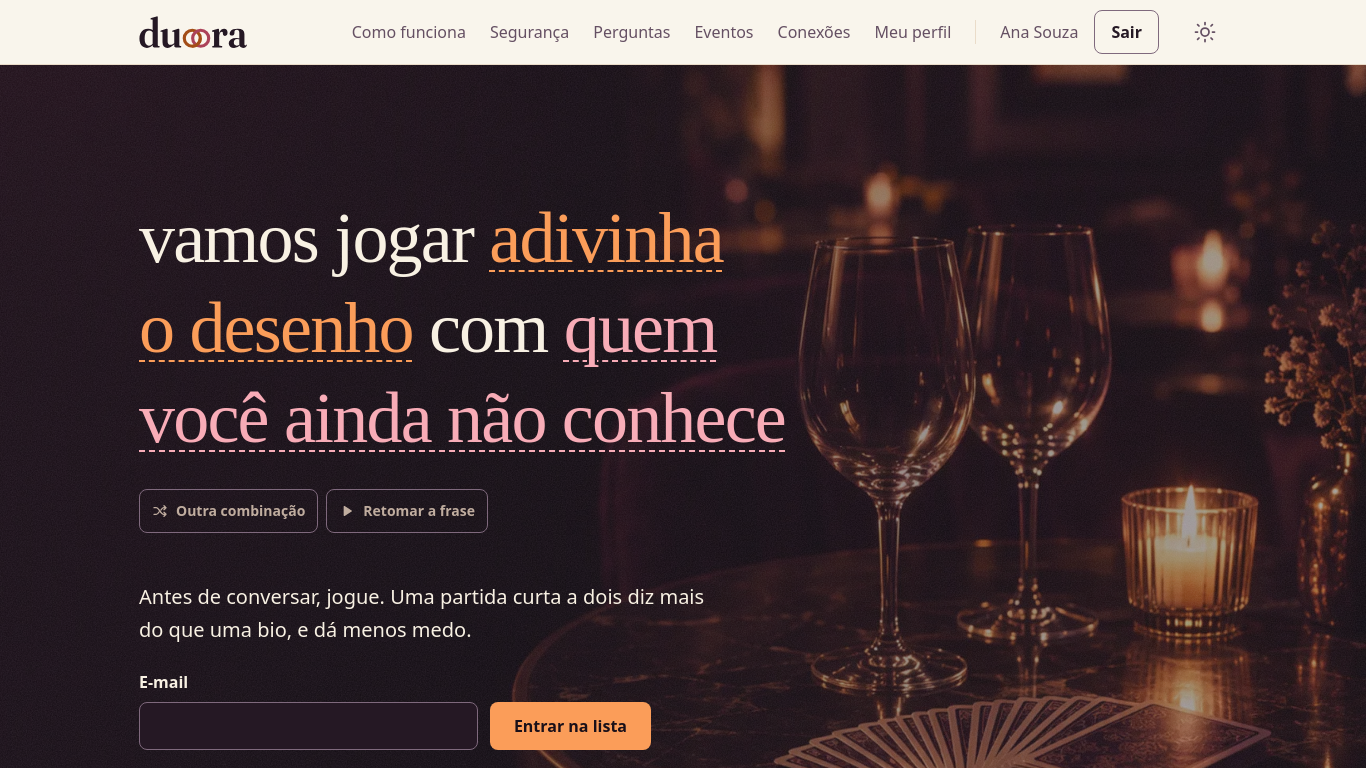
Test case: navigation (desktop) › takes a logged in user to the profile without reloading the page
Click the link "Meu perfil": (913, 32) [874,21,951,43]
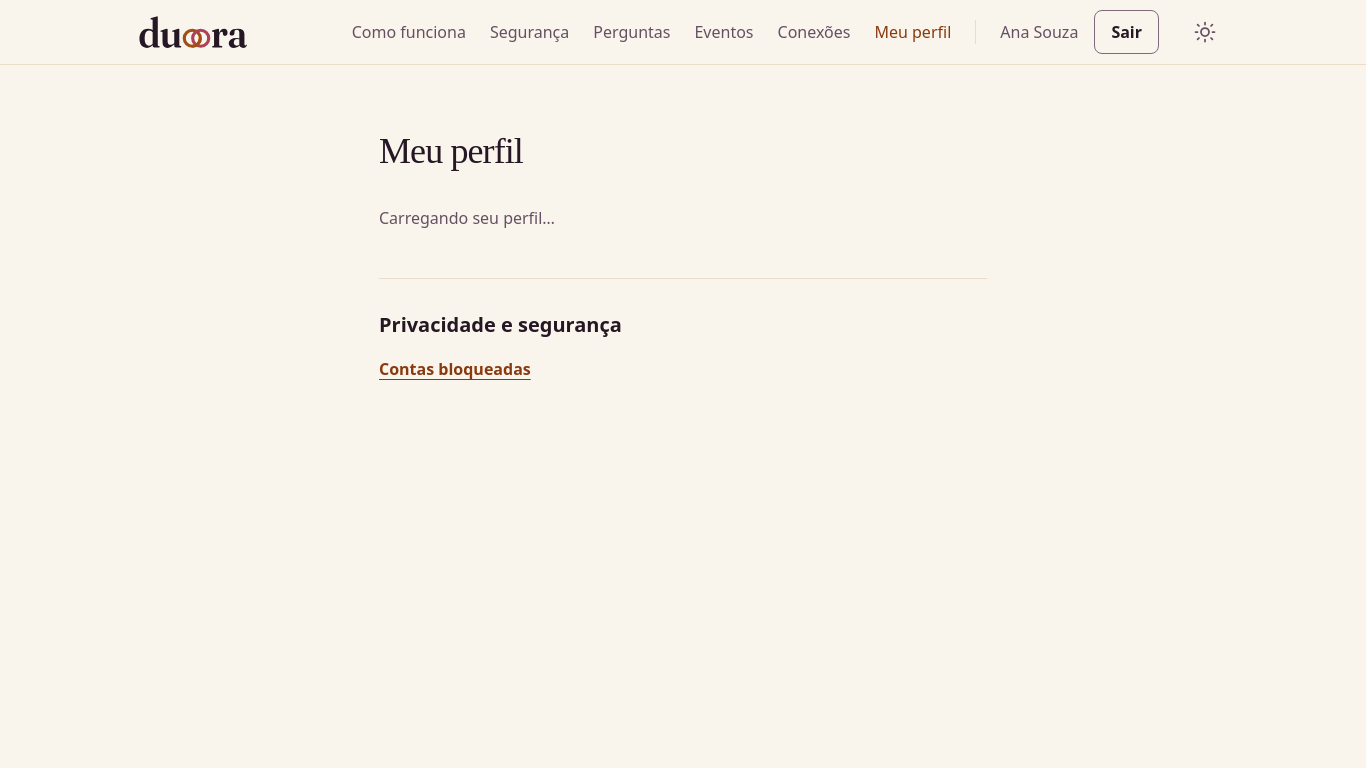
Result: the heading "Meu perfil" is shown at [379,131,523,171]
